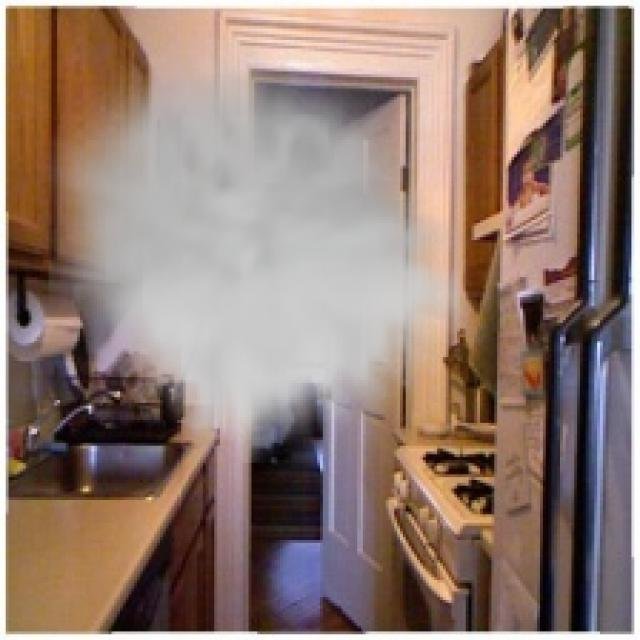smoke: (49, 37, 460, 463)
